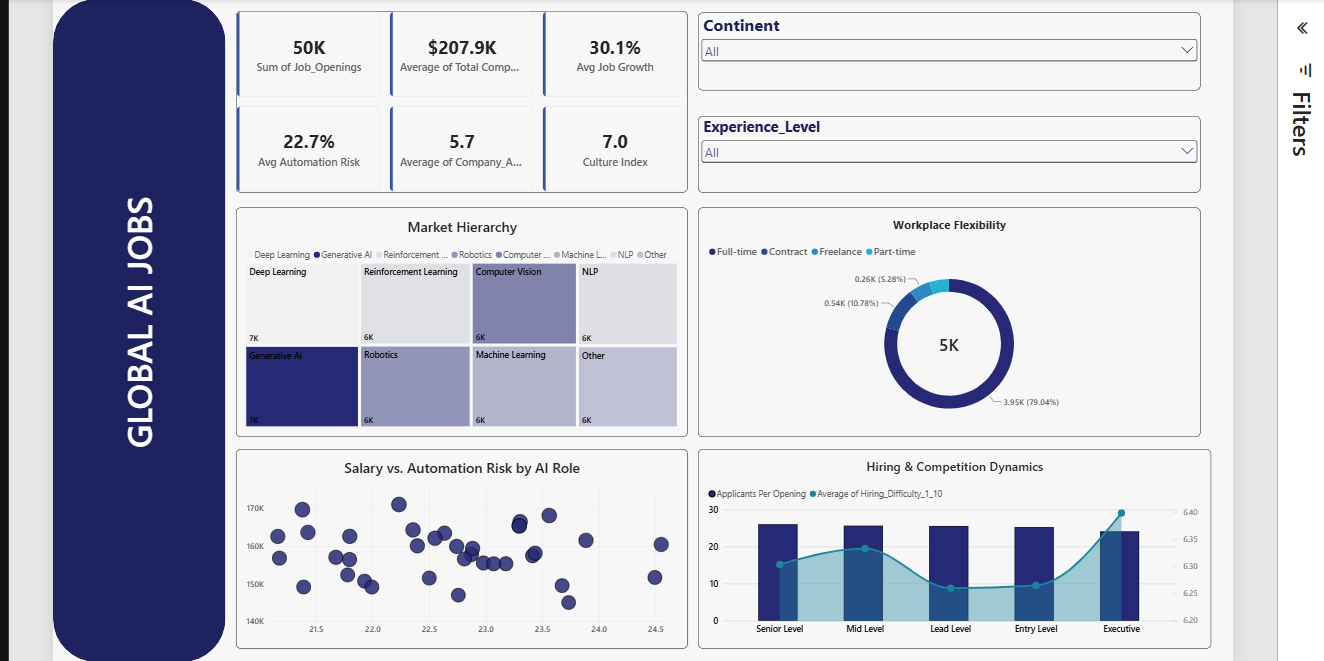

What the dashboard file says about the page in this screenshot:
{"tool":"powerbi","page":{"name":"Global AI Jobs 2026","canvas":[1920,1080],"ordinal":0},"visuals":[{"type":"scatterChart","title":"Salary vs. Automation Risk by AI Role","fields":{"Category":["global_ai_jobs_2026.Job_Title"],"Size":["global_ai_jobs_2026.Avg Total Compensation"],"X":["Avg(global_ai_jobs_2026.Automation_Risk_%)"],"Y":["Avg(global_ai_jobs_2026.Salary_USD)"]},"box":[297.7,731.9,734.4,324.5],"z":2000},{"type":"cardVisual","fields":{"Data":["Sum(global_ai_jobs_2026.Job_Openings)","Avg(global_ai_jobs_2026.Total Compensation Row)","global_ai_jobs_2026.Avg Job Growth","global_ai_jobs_2026.Avg Automation Risk","Avg(global_ai_jobs_2026.Company_AI_Maturity_1_10)","global_ai_jobs_2026.Culture Index"]},"box":[297.7,19.5,734.4,295.2],"z":3000},{"type":"treemap","title":"Market Hierarchy","fields":{"Group":["global_ai_jobs_2026.AI_Specialization"],"Values":["Sum(global_ai_jobs_2026.Job_Openings)"]},"box":[297.7,339.1,734.4,373.3],"z":4000},{"type":"lineStackedColumnComboChart","title":"Hiring & Competition Dynamics","fields":{"Category":["global_ai_jobs_2026.Experience_Level"],"Y":["global_ai_jobs_2026.Applicants Per Opening"],"Y2":["Avg(global_ai_jobs_2026.Hiring_Difficulty_1_10)"]},"box":[1049.1,731.9,834.4,324.5],"z":5000},{"type":"donutChart","title":"Workplace Flexibility","fields":{"Category":["global_ai_jobs_2026.Job_Type"],"Y":["CountNonNull(global_ai_jobs_2026.Job_ID)"]},"box":[1049.1,339.1,817.3,373.3],"z":6000},{"type":"slicer","fields":{"Values":["global_ai_jobs_2026.Continent"]},"box":[1049.1,22,817.3,126.9],"z":7000},{"type":"actionButton","title":"GLOBAL AI JOBS","box":[0,0,280.6,1078.4],"z":8001},{"type":"slicer","fields":{"Values":["global_ai_jobs_2026.Experience_Level"]},"box":[1049.1,190.3,817.3,124.4],"z":8002}]}

Visuals, with their boxes on the page's 1920x1080 design canvas (x1, y1, x2, y2). These are canvas units, not pixel positions in the 1324x661 screenshot, which may show the page scaled, cropped or inside an application window:
"Salary vs. Automation Risk by AI Role" scatterChart: 298/732/1032/1056
cardVisual - Sum(global_ai_jobs_2026.Job_Openings) x Avg(global_ai_jobs_2026.Total Compensation Row): 298/20/1032/315
"Market Hierarchy" treemap: 298/339/1032/712
"Hiring & Competition Dynamics" lineStackedColumnComboChart: 1049/732/1884/1056
"Workplace Flexibility" donutChart: 1049/339/1866/712
slicer - global_ai_jobs_2026.Continent: 1049/22/1866/149
"GLOBAL AI JOBS" actionButton: 0/0/281/1078
slicer - global_ai_jobs_2026.Experience_Level: 1049/190/1866/315
